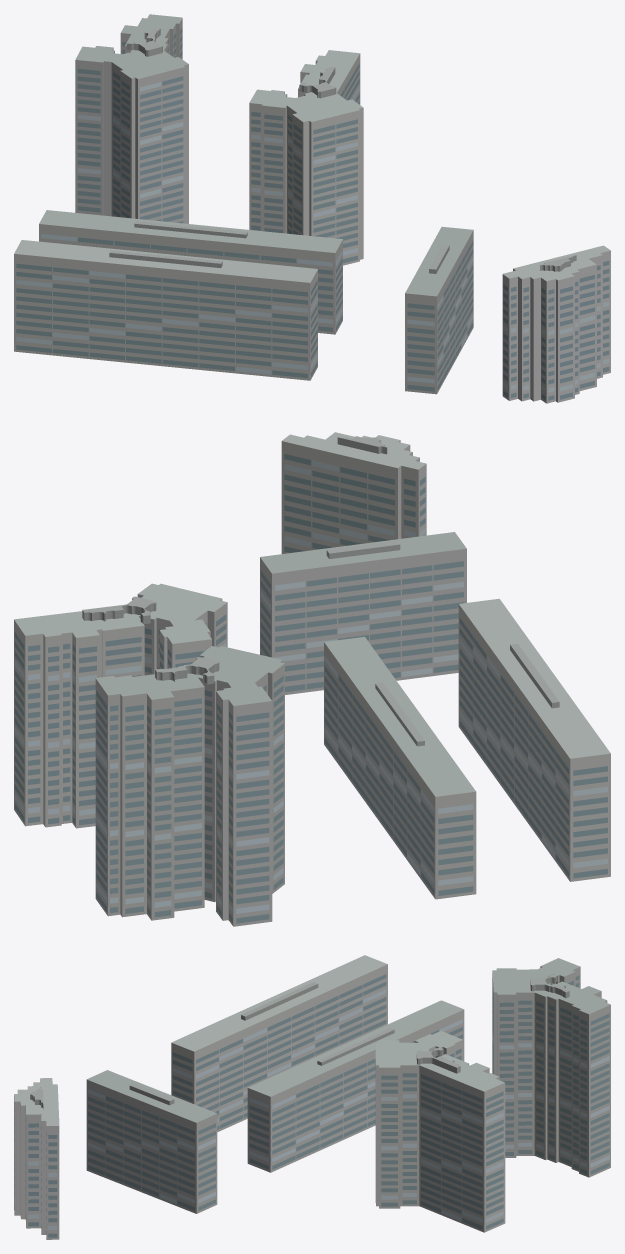
Rendered from apt-a13881401.glb.
The picture shows the model from 3 angles, top to bottom: view 1: azimuth 30°, elevation 25°; view 2: azimuth 150°, elevation 25°; view 3: azimuth 270°, elevation 25°; orthographic projection. The views are drawn at different scales.
Parts seen in each view (by area): view 1: apt-a13881401; view 2: apt-a13881401; view 3: apt-a13881401.
Part boxes in pixels (<box>): apt-a13881401: <box>14,14,610,403</box>; apt-a13881401: <box>14,432,610,926</box>; apt-a13881401: <box>14,955,610,1239</box>.
Bounding box in the file's own units: 167 × 68 × 217.
